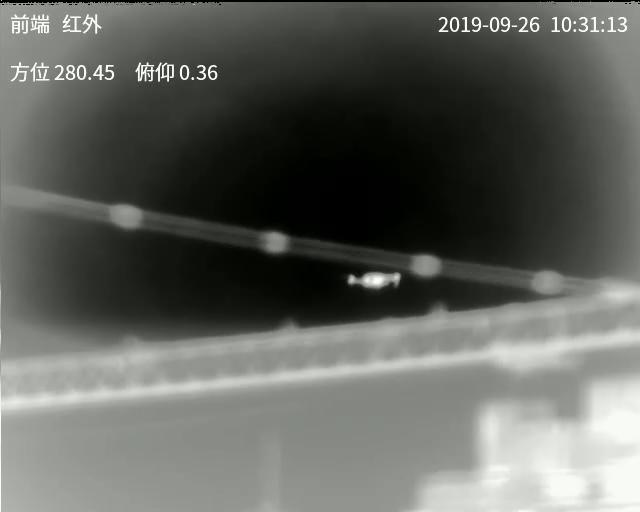uav: (346, 270, 406, 292)
